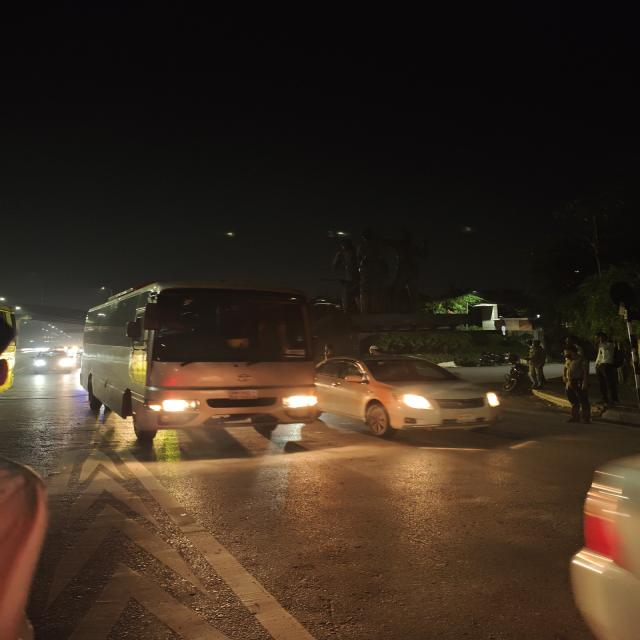bus: (80, 280, 326, 436)
car: (313, 352, 504, 442), (30, 346, 74, 376)
pedestrian: (558, 336, 606, 424), (524, 339, 551, 387)
